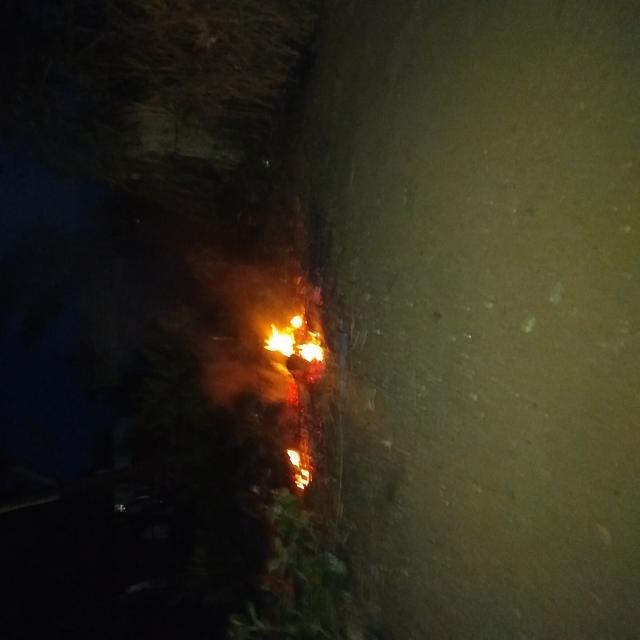Fire: (191, 351, 255, 435), (110, 380, 163, 419)
